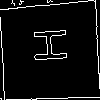H: (25, 26, 68, 65)
